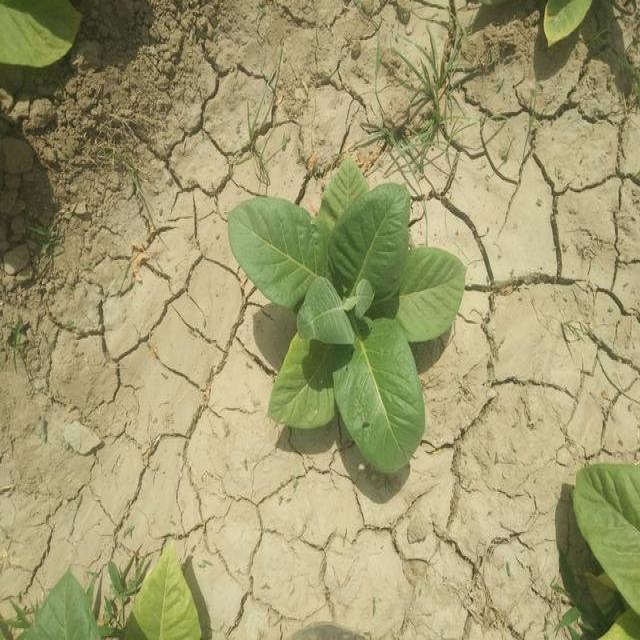crop: (248, 169, 452, 460), (569, 454, 640, 640), (26, 574, 224, 640)
